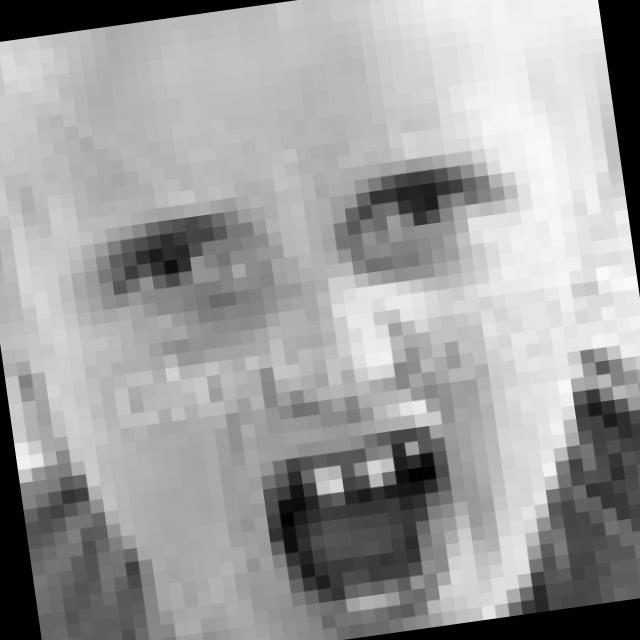angry: (77, 145, 580, 640)
